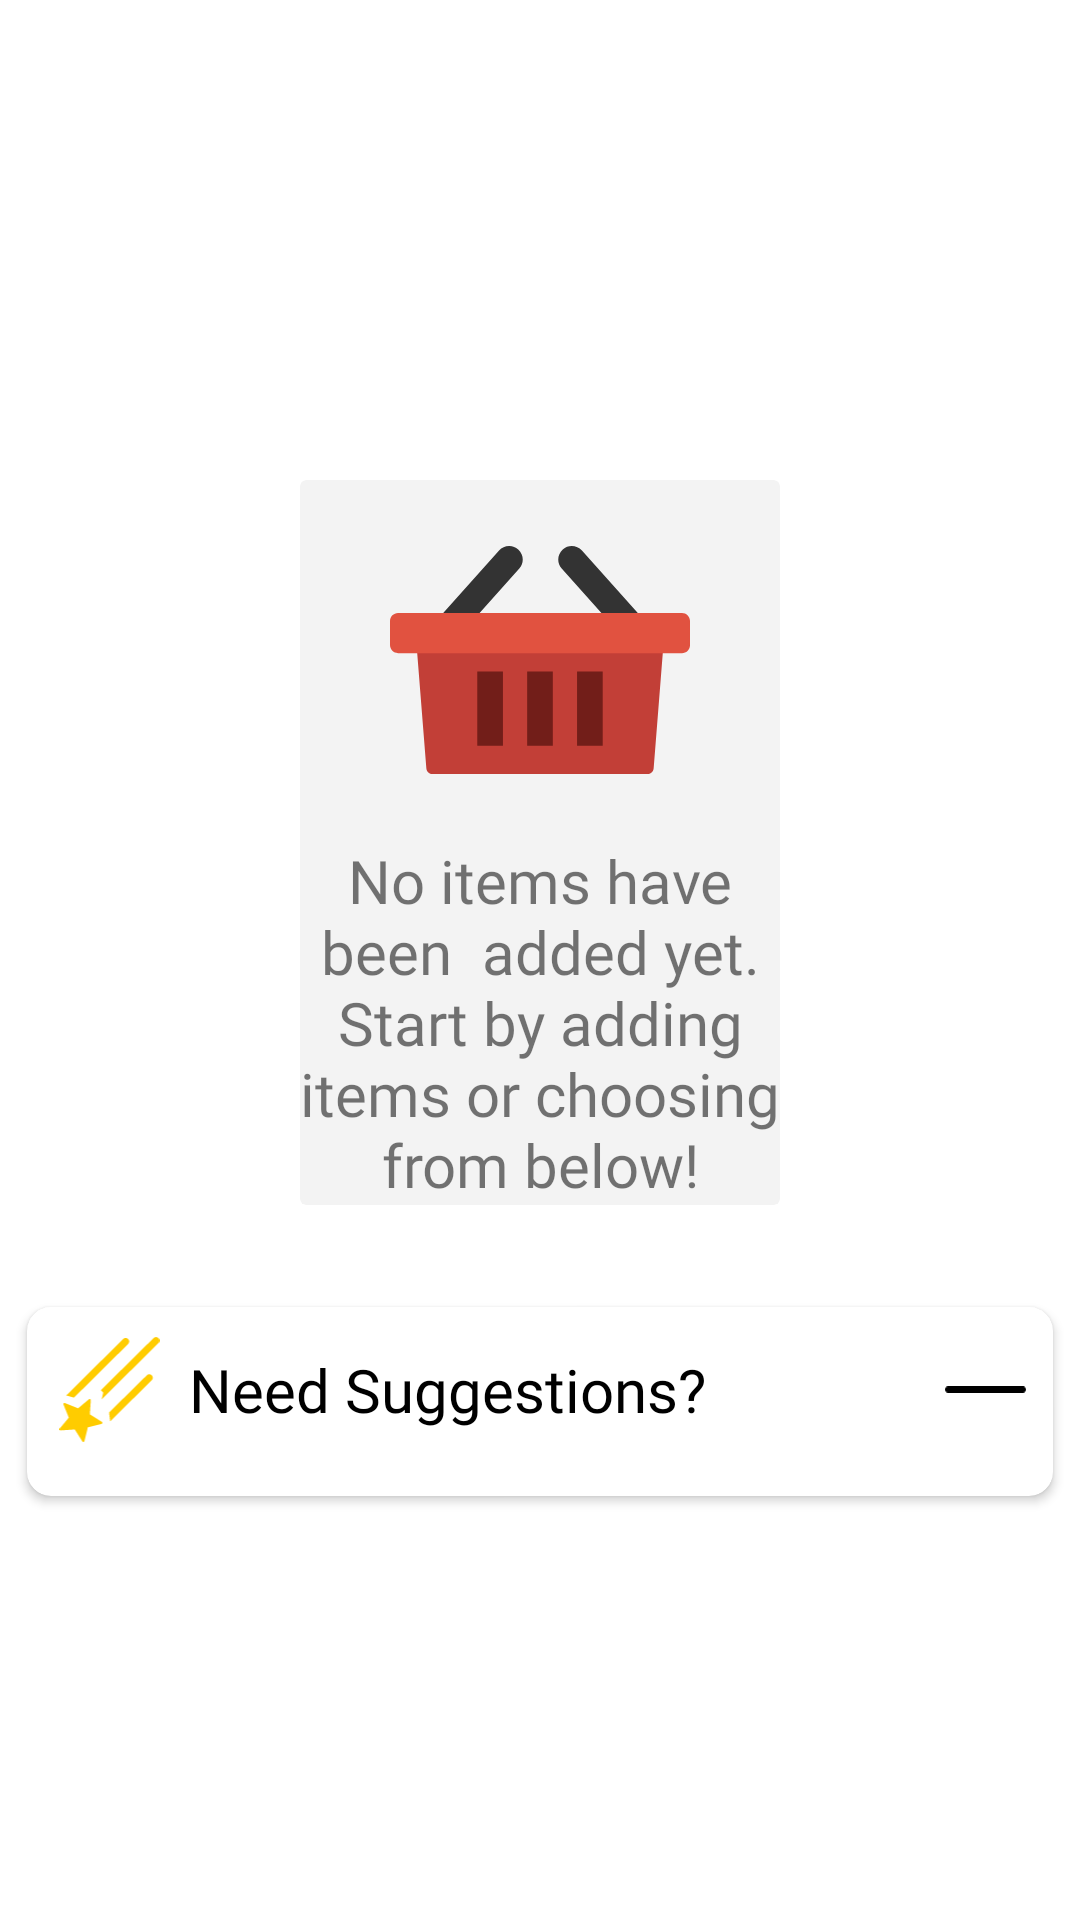

Where to tap for icons on this 1080*1920 app screen, as (x,y):
basket: (540,660)
falling star: (109,1389)
